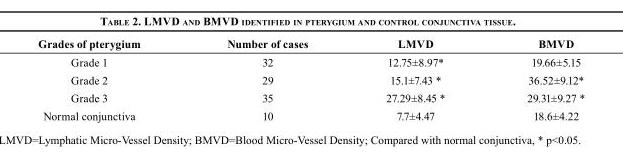table: (37, 36, 584, 121)
table column: (183, 36, 346, 121), (37, 36, 183, 121), (346, 36, 485, 121), (485, 36, 584, 121)
table column header: (37, 36, 584, 52)
table row: (37, 52, 584, 70), (37, 70, 584, 88), (37, 88, 584, 106), (37, 36, 584, 52), (37, 106, 584, 121)
